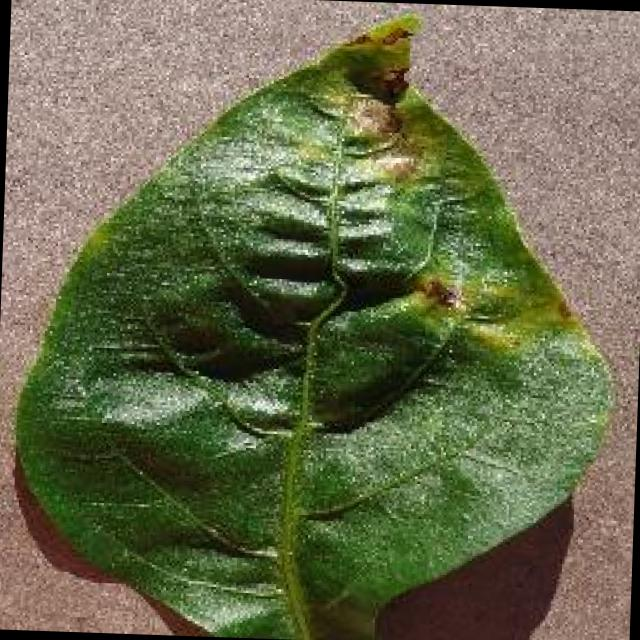Chilli_Bacterial_Spot: (1, 0, 630, 640), (294, 279, 458, 437), (146, 296, 238, 379), (344, 6, 424, 54), (341, 90, 405, 145), (350, 56, 412, 106), (413, 271, 464, 315), (372, 147, 423, 186)
